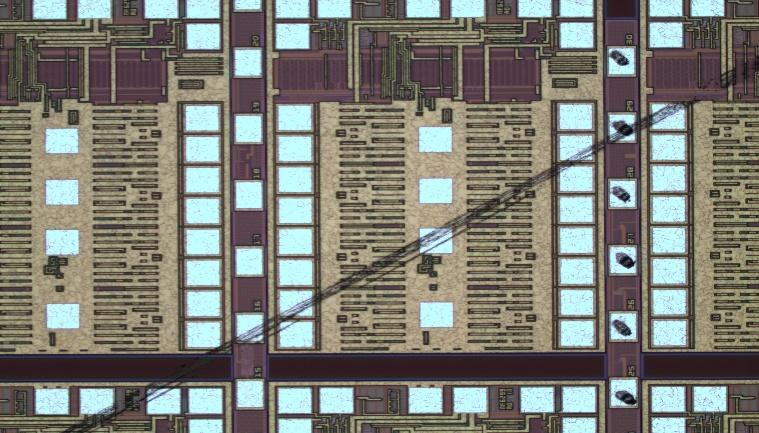SCRATCH: (73, 56, 759, 433)
